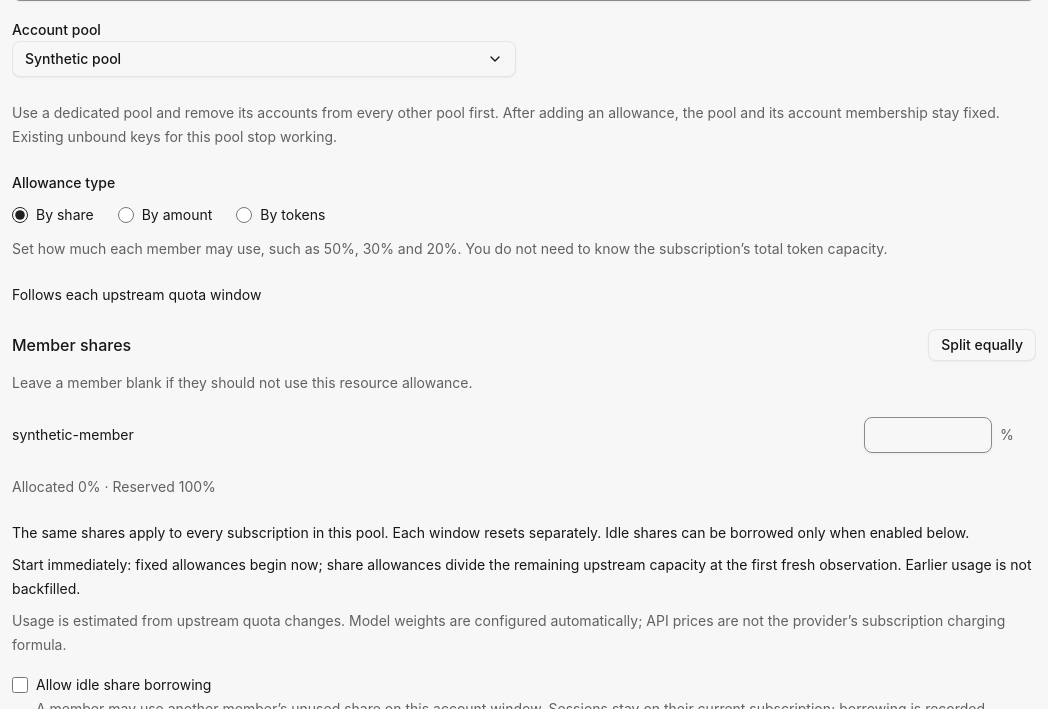
it: reports a failed catalog and can retry before selecting a model
This screenshot has width=1048, height=709.
Click the radio button labelled "By amount" at (126, 215), box left=118, top=207, right=134, bottom=223
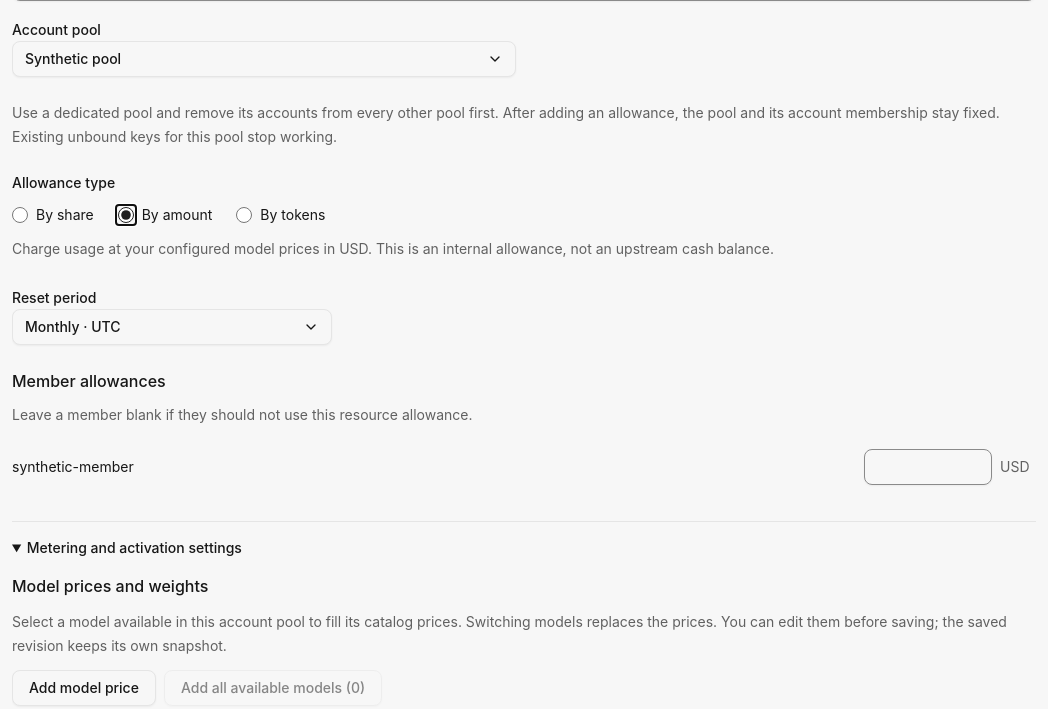
Click the button "Add model price" at (84, 688), box left=12, top=670, right=156, bottom=706
(page scrolled)
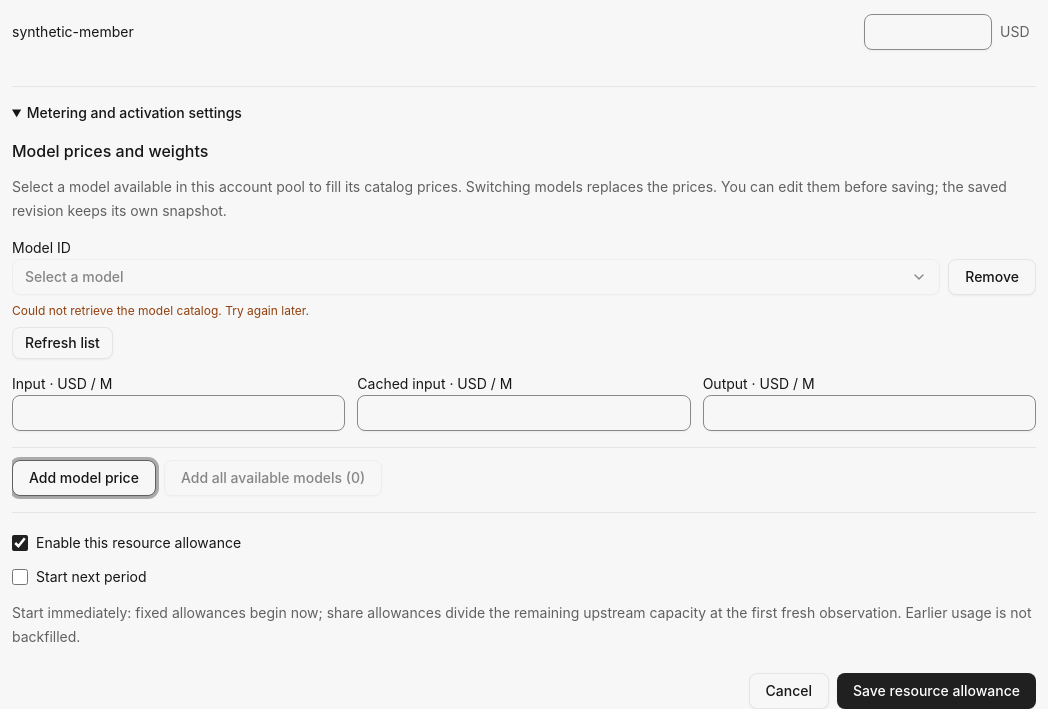
Expected: the text "Could not retrieve the model catalog. Try again later." is shown, left=12, top=303, right=309, bottom=318
Expected: the button "Add all available models (0)" is disabled, left=164, top=460, right=382, bottom=496
Click the button "Refresh list" at (62, 343), box left=12, top=327, right=113, bottom=359
(page scrolled)
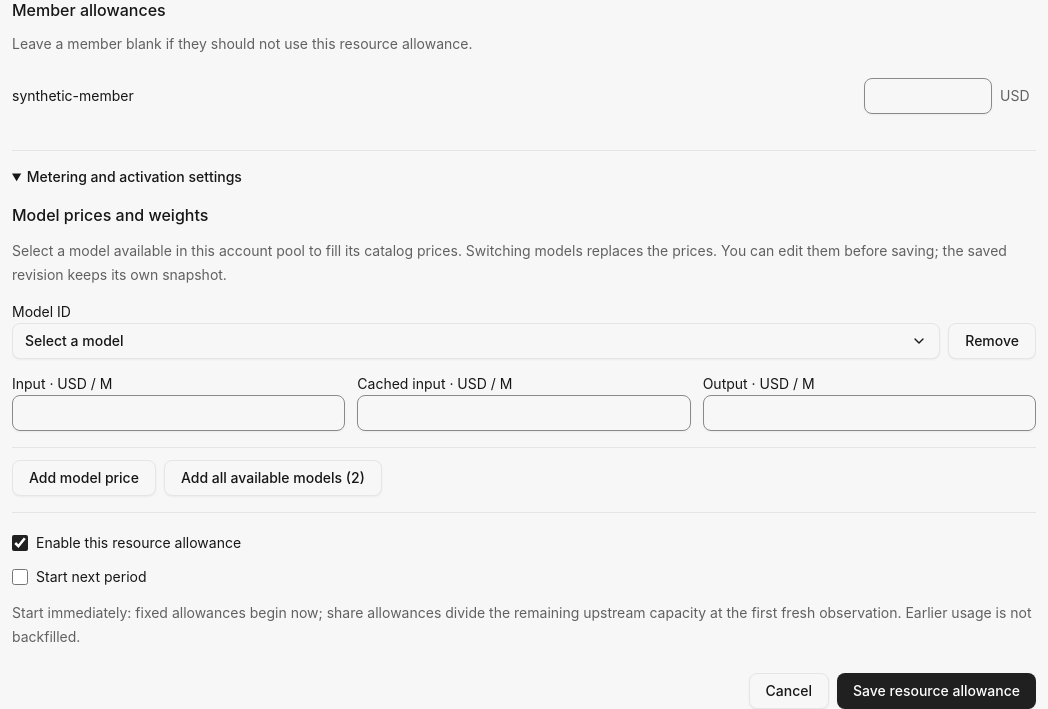
Expected: the button with aria-label "Model ID" is enabled
Click the button with aria-label "Model ID" at (74, 340), box left=12, top=323, right=940, bottom=359
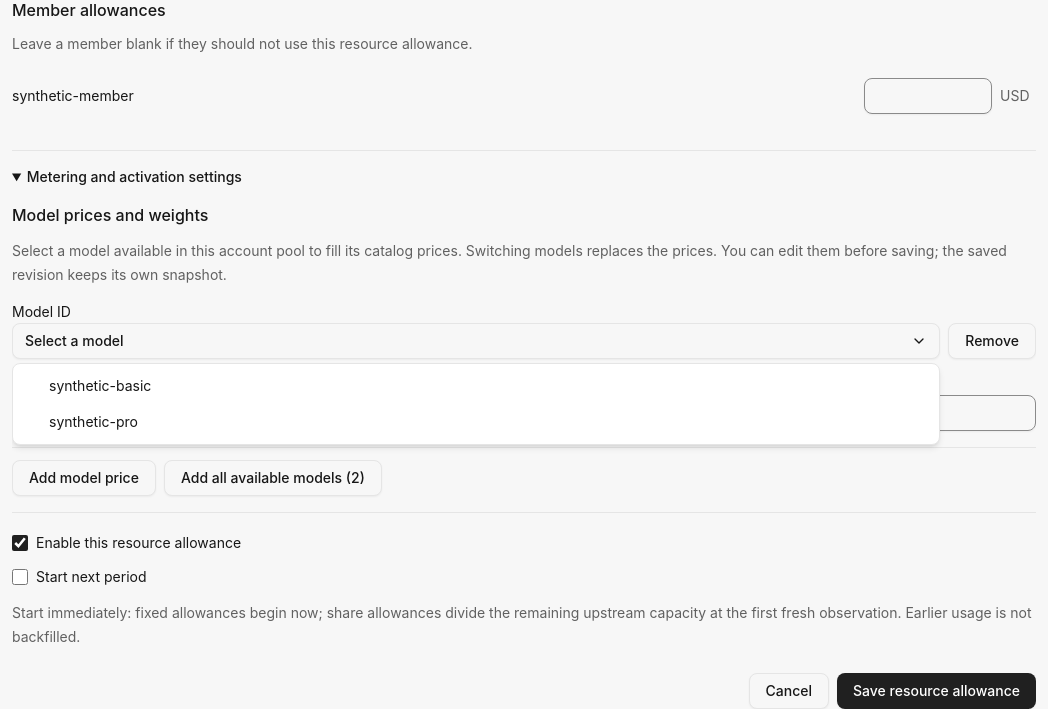
Expected: the menu item "synthetic-basic" is shown, left=49, top=377, right=151, bottom=394
